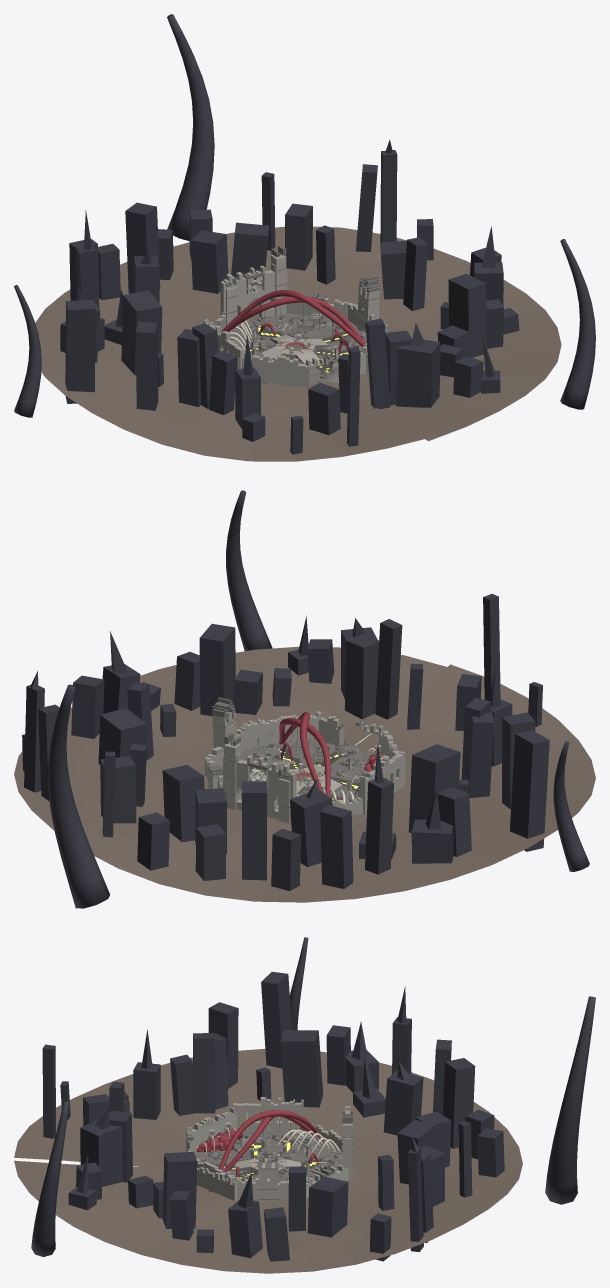
File: arena_2.glb
3 views of the same model, one above another, from view 1: azimuth 30°, elevation 25°; view 2: azimuth 150°, elevation 25°; view 3: azimuth 270°, elevation 25° (orthographic). The views are drawn at different scales.
Parts seen in each view (by area): view 1: SM_ar2_horizonte_silhueta, SM_ar2_terreiro_terra, SM_ar2_anel_4_pedra, SM_ar2_bicho_carne, SM_ar2_anel_7_pedra, SM_ar2_anel_2_pedra, SM_ar2_adro_pedra, SM_ar2_anel_3_pedra, SM_ar2_piso_ne_pedra_esc, SM_ar2_anel_6_pedra; view 2: SM_ar2_horizonte_silhueta, SM_ar2_terreiro_terra, SM_ar2_anel_4_pedra, SM_ar2_bicho_carne, SM_ar2_anel_1_pedra, SM_ar2_anel_2_pedra, SM_ar2_anel_6_pedra, SM_ar2_anel_0_pedra, SM_ar2_piso_se_pedra_esc, SM_ar2_piso_sw_pedra_esc; view 3: SM_ar2_horizonte_silhueta, SM_ar2_terreiro_terra, SM_ar2_anel_6_pedra, SM_ar2_bicho_carne, SM_ar2_anel_2_pedra, SM_ar2_anel_1_pedra, SM_ar2_anel_7_pedra, SM_ar2_piso_nw_pedra_esc, SM_ar2_anel_5_osso, SM_ar2_anel_4_pedra, SM_ar2_anel_7_carne, SM_ar2_piso_sw_pedra_esc.
Boxes of the visible parts, x1,y1,x2,y2 form: SM_ar2_horizonte_silhueta: (14, 14, 595, 454); SM_ar2_terreiro_terra: (35, 226, 561, 461); SM_ar2_anel_4_pedra: (220, 254, 287, 325); SM_ar2_bicho_carne: (221, 290, 365, 355); SM_ar2_anel_7_pedra: (238, 352, 310, 387); SM_ar2_anel_2_pedra: (346, 285, 385, 331); SM_ar2_adro_pedra: (261, 333, 327, 363); SM_ar2_anel_3_pedra: (286, 294, 347, 338); SM_ar2_piso_ne_pedra_esc: (265, 313, 359, 341); SM_ar2_anel_6_pedra: (203, 319, 244, 369); SM_ar2_horizonte_silhueta: (22, 490, 589, 908); SM_ar2_terreiro_terra: (14, 646, 595, 902); SM_ar2_anel_4_pedra: (223, 742, 296, 823); SM_ar2_bicho_carne: (256, 712, 330, 796); SM_ar2_anel_1_pedra: (241, 711, 321, 748); SM_ar2_anel_2_pedra: (204, 711, 246, 775); SM_ar2_anel_6_pedra: (353, 751, 405, 814); SM_ar2_anel_0_pedra: (313, 716, 383, 746); SM_ar2_piso_se_pedra_esc: (241, 740, 339, 768); SM_ar2_piso_sw_pedra_esc: (324, 751, 374, 792); SM_ar2_horizonte_silhueta: (31, 937, 595, 1261); SM_ar2_terreiro_terra: (14, 1049, 522, 1273); SM_ar2_anel_6_pedra: (233, 1097, 303, 1140); SM_ar2_bicho_carne: (209, 1110, 323, 1191); SM_ar2_anel_2_pedra: (233, 1156, 288, 1202); SM_ar2_anel_1_pedra: (196, 1158, 239, 1200); SM_ar2_anel_7_pedra: (186, 1107, 236, 1151); SM_ar2_piso_nw_pedra_esc: (268, 1133, 342, 1164); SM_ar2_anel_5_osso: (277, 1129, 340, 1157); SM_ar2_anel_4_pedra: (342, 1106, 352, 1180); SM_ar2_anel_7_carne: (197, 1124, 243, 1152); SM_ar2_piso_sw_pedra_esc: (194, 1133, 268, 1165).
Size of what is drawn, in the model's own units: 304 by 124 by 320.
